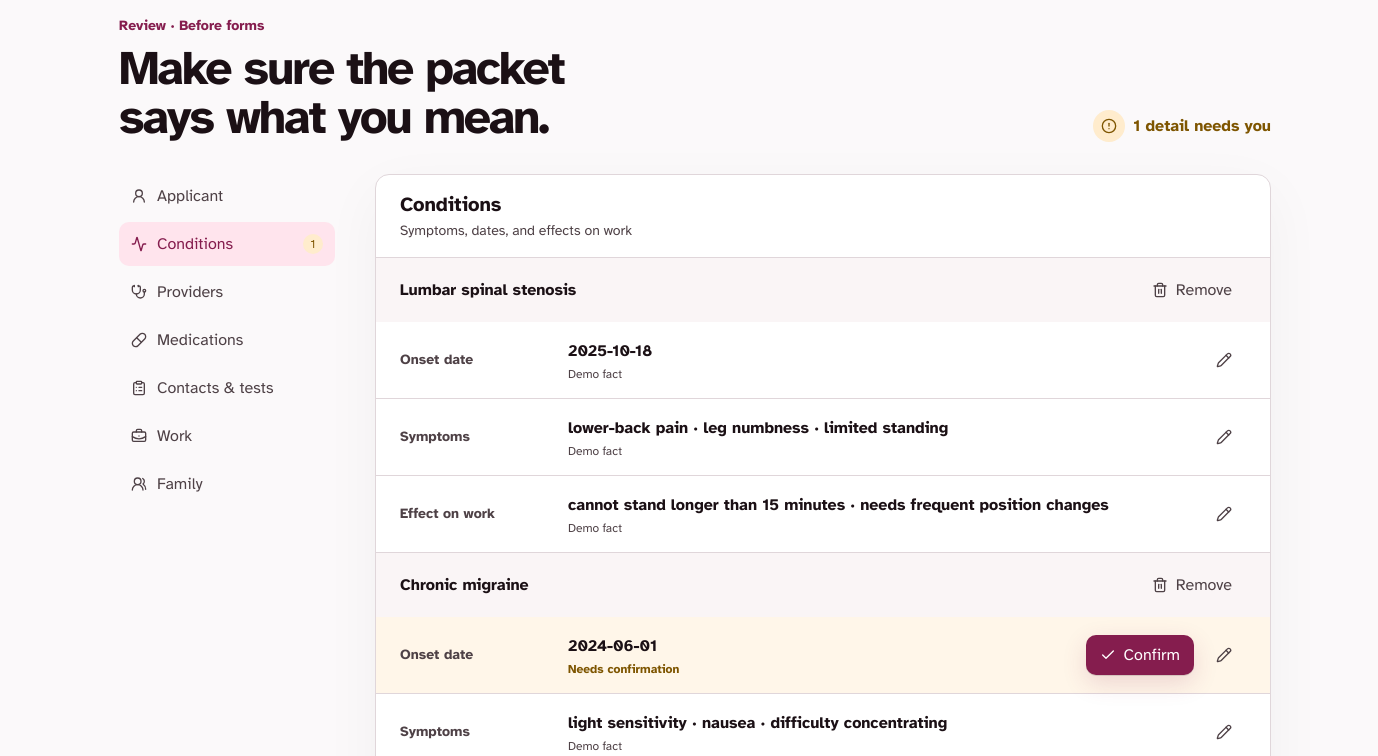
Test case: ReviewFlow › requires confirmation before packet generation
Expected: the text "1 detail needs you" is shown, left=1093, top=110, right=1271, bottom=142
Click the button "Confirm". click: (1140, 655)
box: left=1086, top=635, right=1194, bottom=675
(page scrolled)
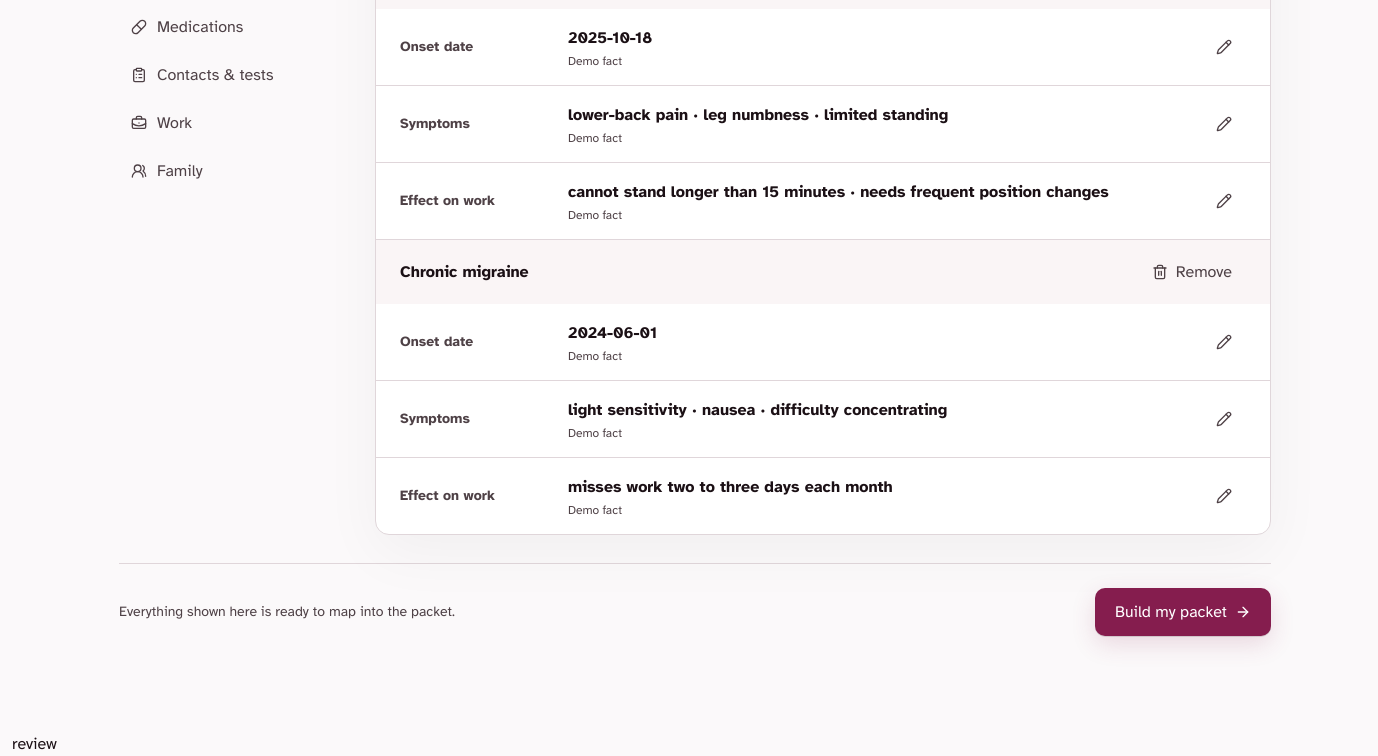
Expected: the button "Build my packet" is enabled
Click the button "Build my packet". click: (1183, 612)
box: left=1095, top=588, right=1271, bottom=636
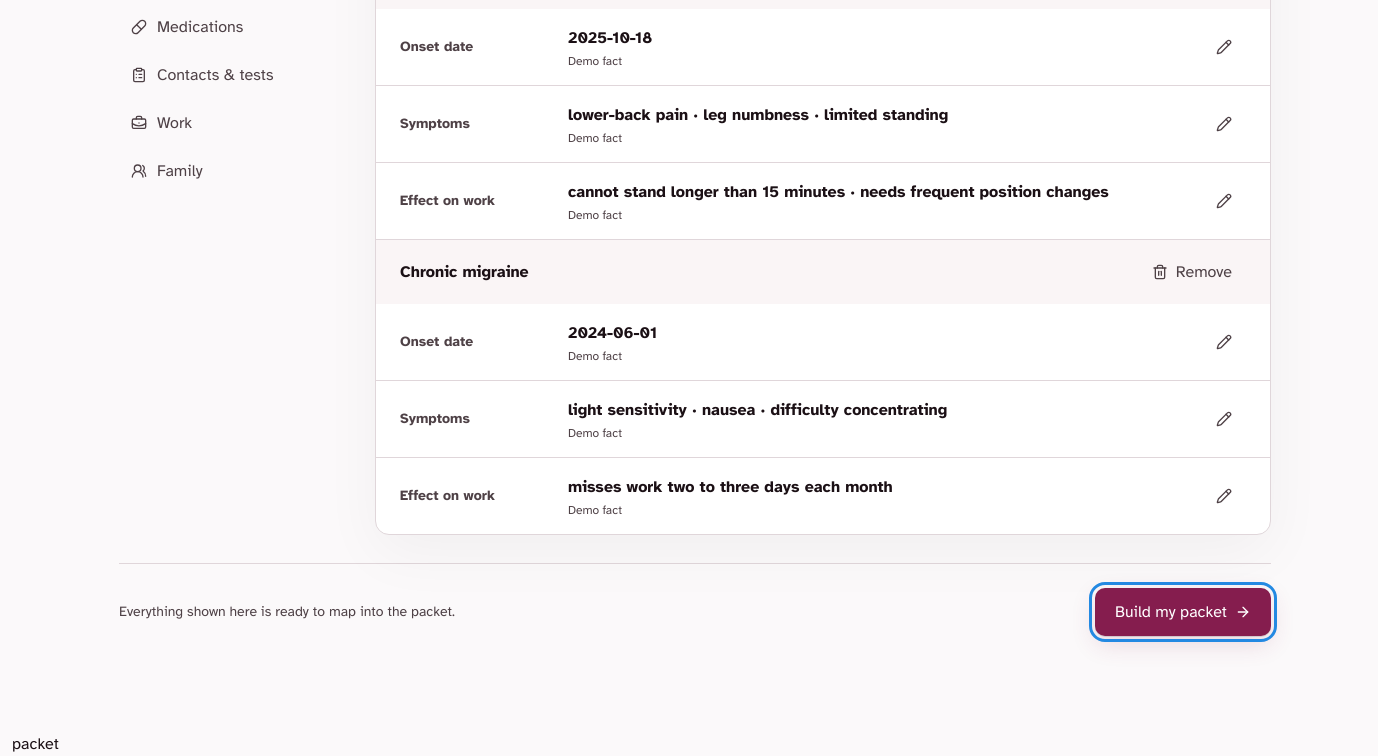
Expected: the text with test id "case-stage" reads "packet", left=12, top=734, right=59, bottom=754
